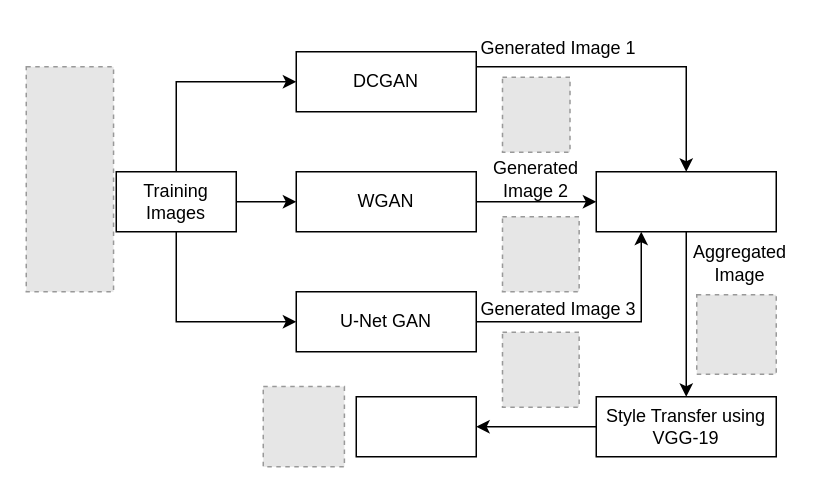
The diagram is 819 pixels wide and 494 high, and some of its shapes have lost their labels. Grey dashed boxes stand in for pictures. Each missing label, with the centre of its shape:
"Aggregation" belongs at point 685,201.
"Artificial Image" belongs at point 415,426.
